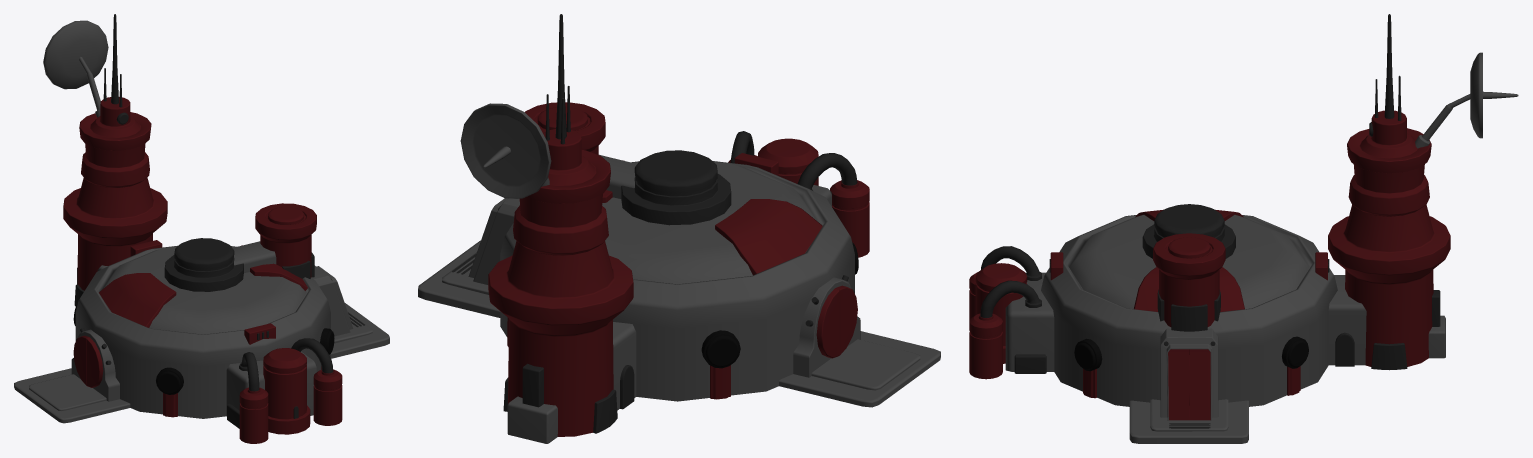
The model's file is colony_Main_house_3lv.glb.
3 renders of one model, left to right at view 1: azimuth 30°, elevation 25°; view 2: azimuth 150°, elevation 25°; view 3: azimuth 270°, elevation 25°, orthographic. The views are drawn at different scales.
Visible parts, largest first — view 1: Main_house_3lv; view 2: Main_house_3lv; view 3: Main_house_3lv.
Boxes of the visible parts, box(x1,y1,x2,y2) form: Main_house_3lv: box(14, 14, 389, 443); Main_house_3lv: box(418, 14, 940, 443); Main_house_3lv: box(969, 14, 1518, 443).
Bounding box in the file's own units: 1640 × 1368 × 2030.
Materials: 1 (1 with a texture image).
